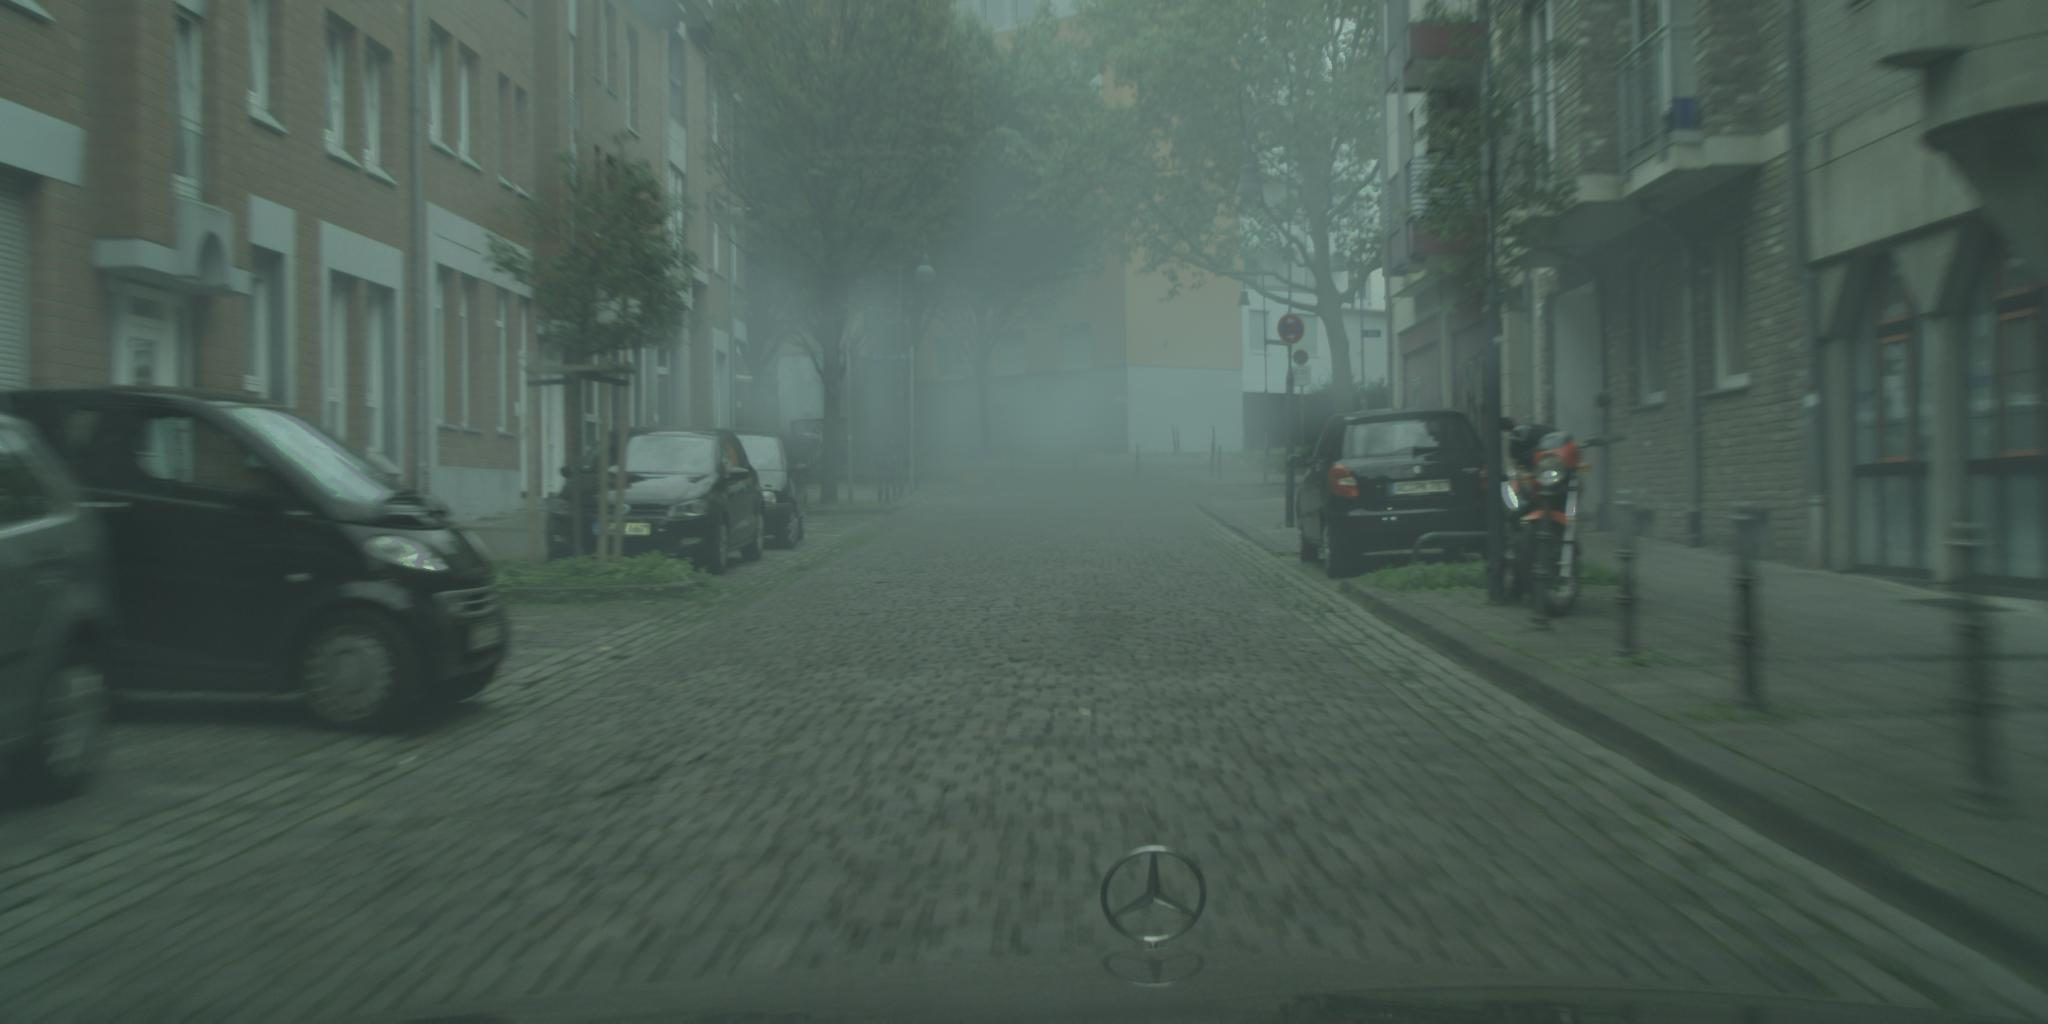car: (1, 387, 513, 734), (1, 415, 127, 798), (1289, 408, 1509, 579), (546, 427, 765, 576), (686, 428, 808, 550)
motorcycle: (1496, 417, 1627, 615)
